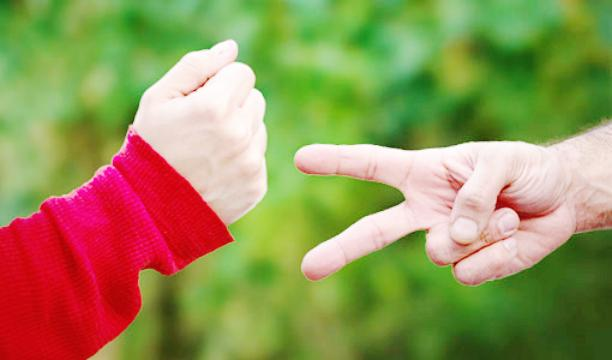Rock: (120, 35, 276, 241)
Scissors: (288, 119, 574, 306)
